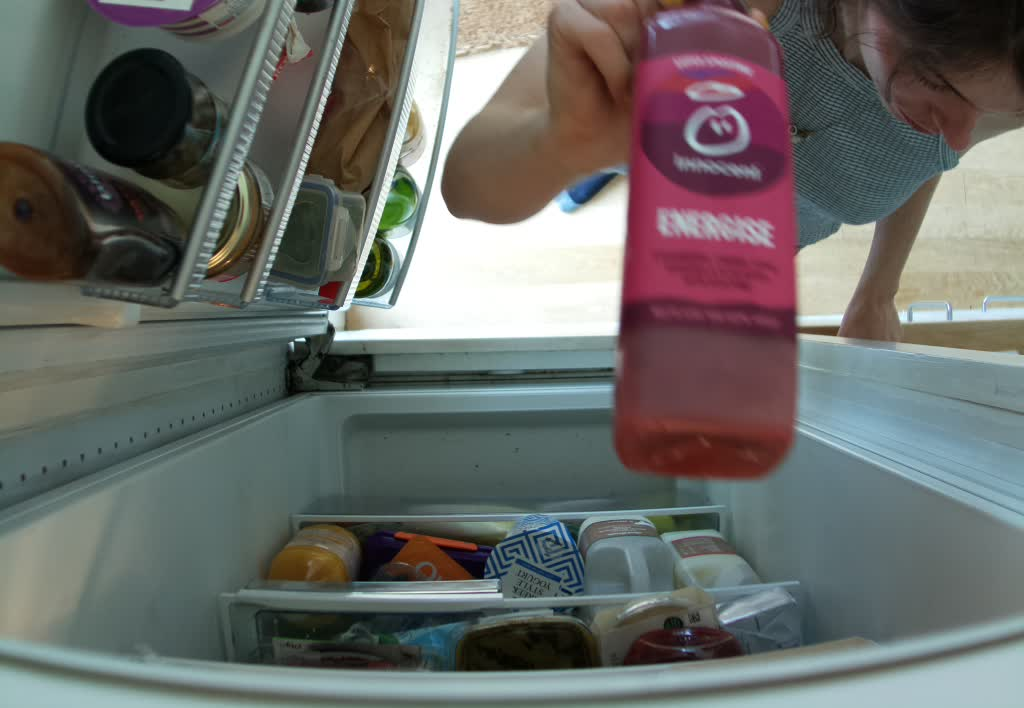juice: (610, 1, 805, 482)
